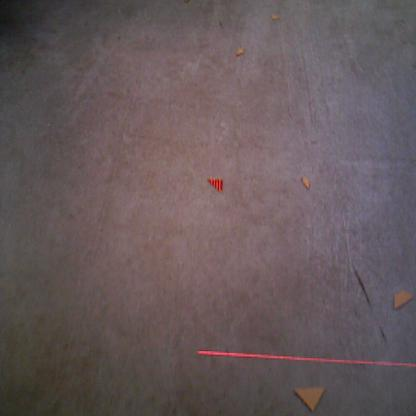dirty: (292, 385, 326, 416), (392, 289, 414, 311), (206, 176, 224, 195), (299, 174, 311, 191), (234, 47, 245, 58), (270, 11, 280, 23), (182, 1, 190, 4)
mark: (353, 269, 371, 306), (377, 325, 387, 343), (287, 106, 293, 120), (310, 138, 318, 146), (218, 20, 224, 30), (117, 35, 122, 42), (99, 227, 104, 233)
